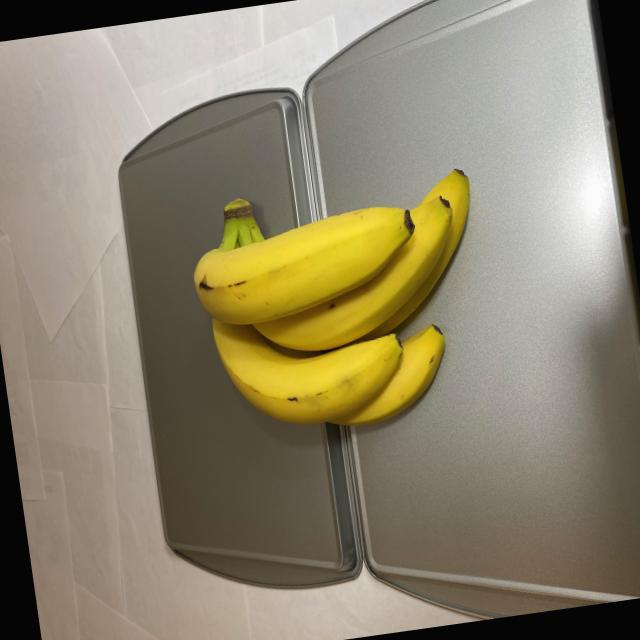banana: (180, 160, 508, 451)
